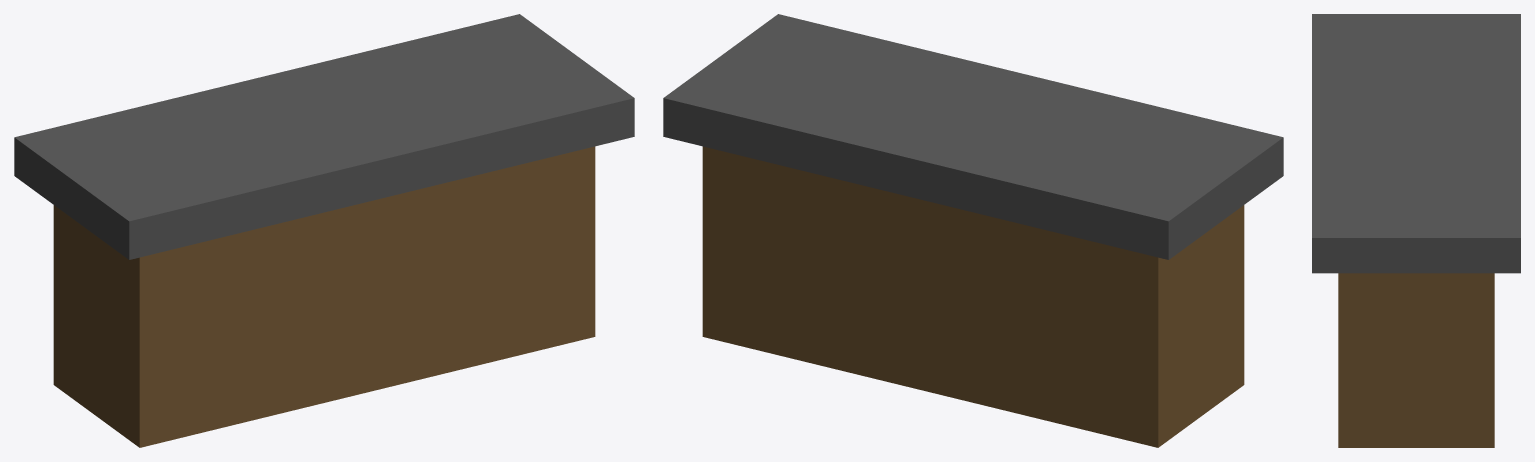
File: Counter 1.fbx
3 renders of one model, left to right at view 1: azimuth 30°, elevation 25°; view 2: azimuth 150°, elevation 25°; view 3: azimuth 270°, elevation 25°, orthographic. The views are drawn at different scales.
Parts seen in each view (by area): view 1: pCube1; view 2: pCube1; view 3: pCube1.
Part boxes in pixels (x1,y1,x2,y2): pCube1: (14, 14, 634, 447); pCube1: (663, 14, 1283, 447); pCube1: (1312, 14, 1520, 447).
Bounding box in the file's own units: 8.08 × 3.72 × 3.18.
